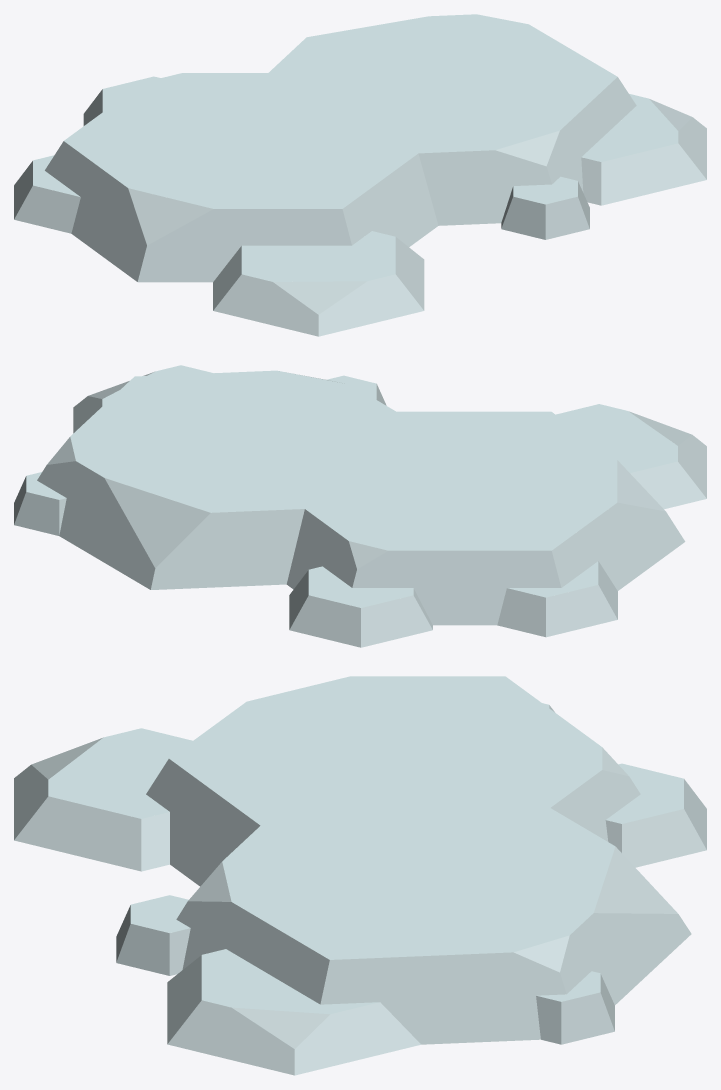
File: platform_stone.glb
3 views of the same model, one above another, from view 1: azimuth 30°, elevation 25°; view 2: azimuth 150°, elevation 25°; view 3: azimuth 270°, elevation 25° (orthographic). The views are drawn at different scales.
Visible parts, largest first — view 1: platform_stone; view 2: platform_stone; view 3: platform_stone.
Part boxes in pixels (<box>): platform_stone: <box>14,14,706,336</box>; platform_stone: <box>14,365,706,647</box>; platform_stone: <box>14,676,706,1075</box>.
Bounding box in the file's own units: 0.8932 × 0.0825 × 0.7239.
